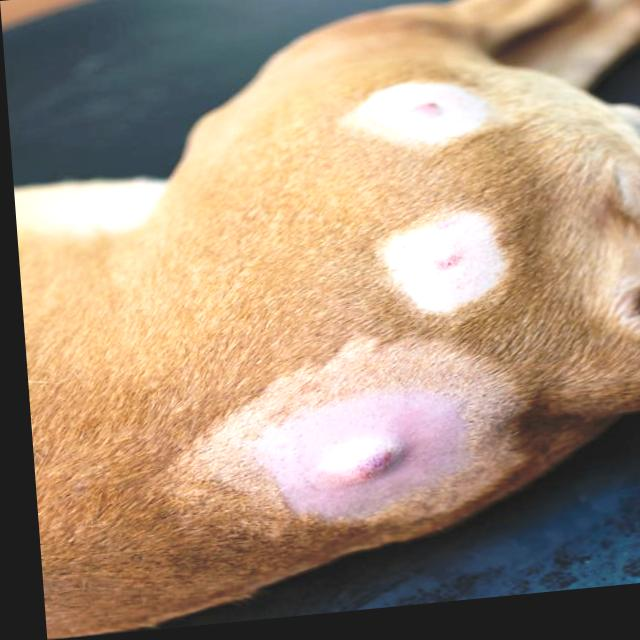lump_and_bump: (317, 429, 406, 487), (435, 253, 461, 270), (409, 102, 439, 113)
